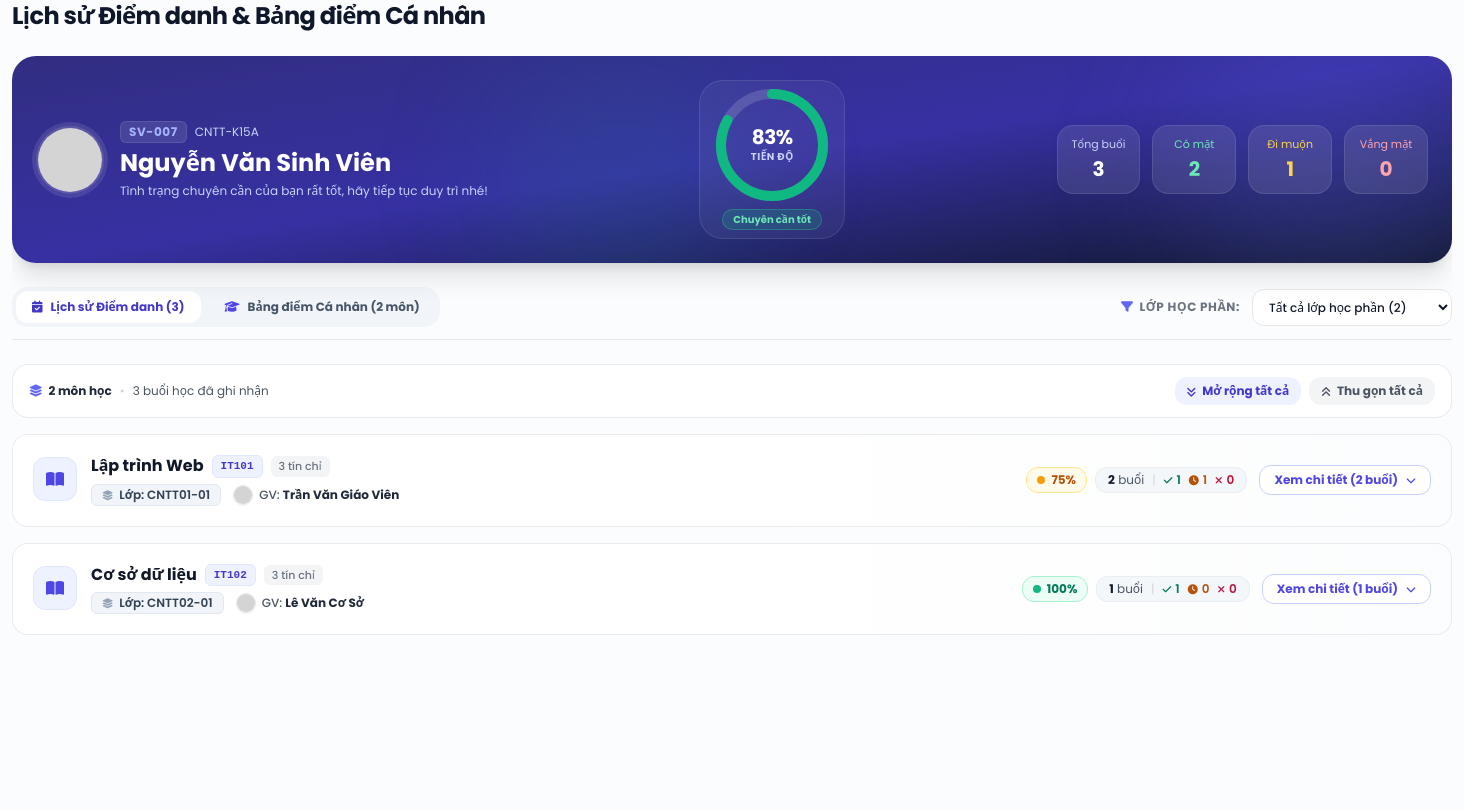
Scenario: StudentAttendance (Attendance & Personal Gradebook) › renders read-only attendance matrix and detailed table matching LMS design, strictly disabled from edits
# Expand the first course card (Lập trình Web)
Click the button "Xem chi tiết (2 buổi)" at {"x": 1345, "y": 480}, box [1259, 465, 1431, 495]
(page scrolled)
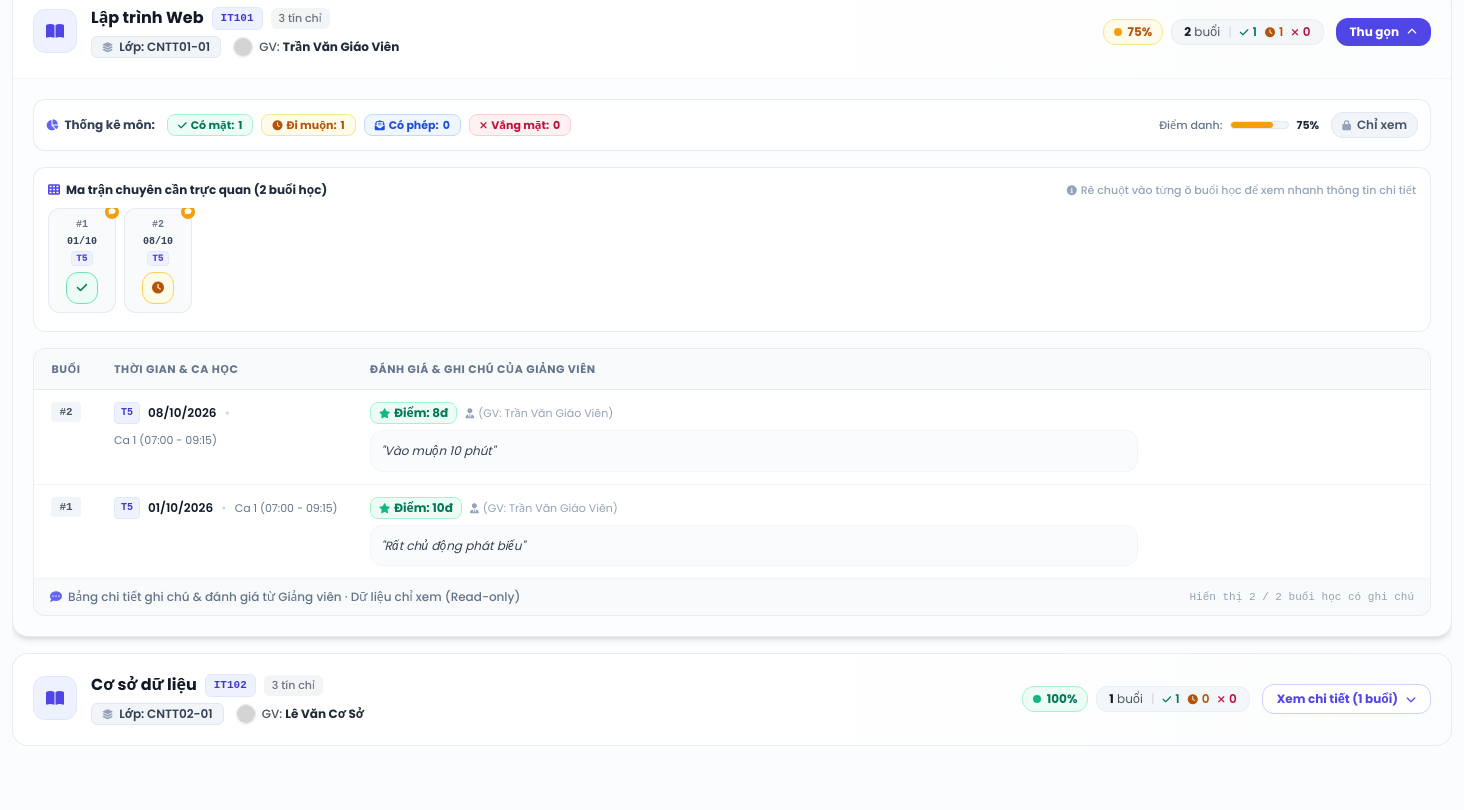
Expected: the text "chỉ xem (Read-only)" is shown, [68, 588, 520, 605]
Expected: the text "Ma trận chuyên cần trực quan (2 buổi học)" is shown, [66, 182, 327, 198]
Expected: the column heading "Buổi" is shown, [34, 349, 98, 390]
